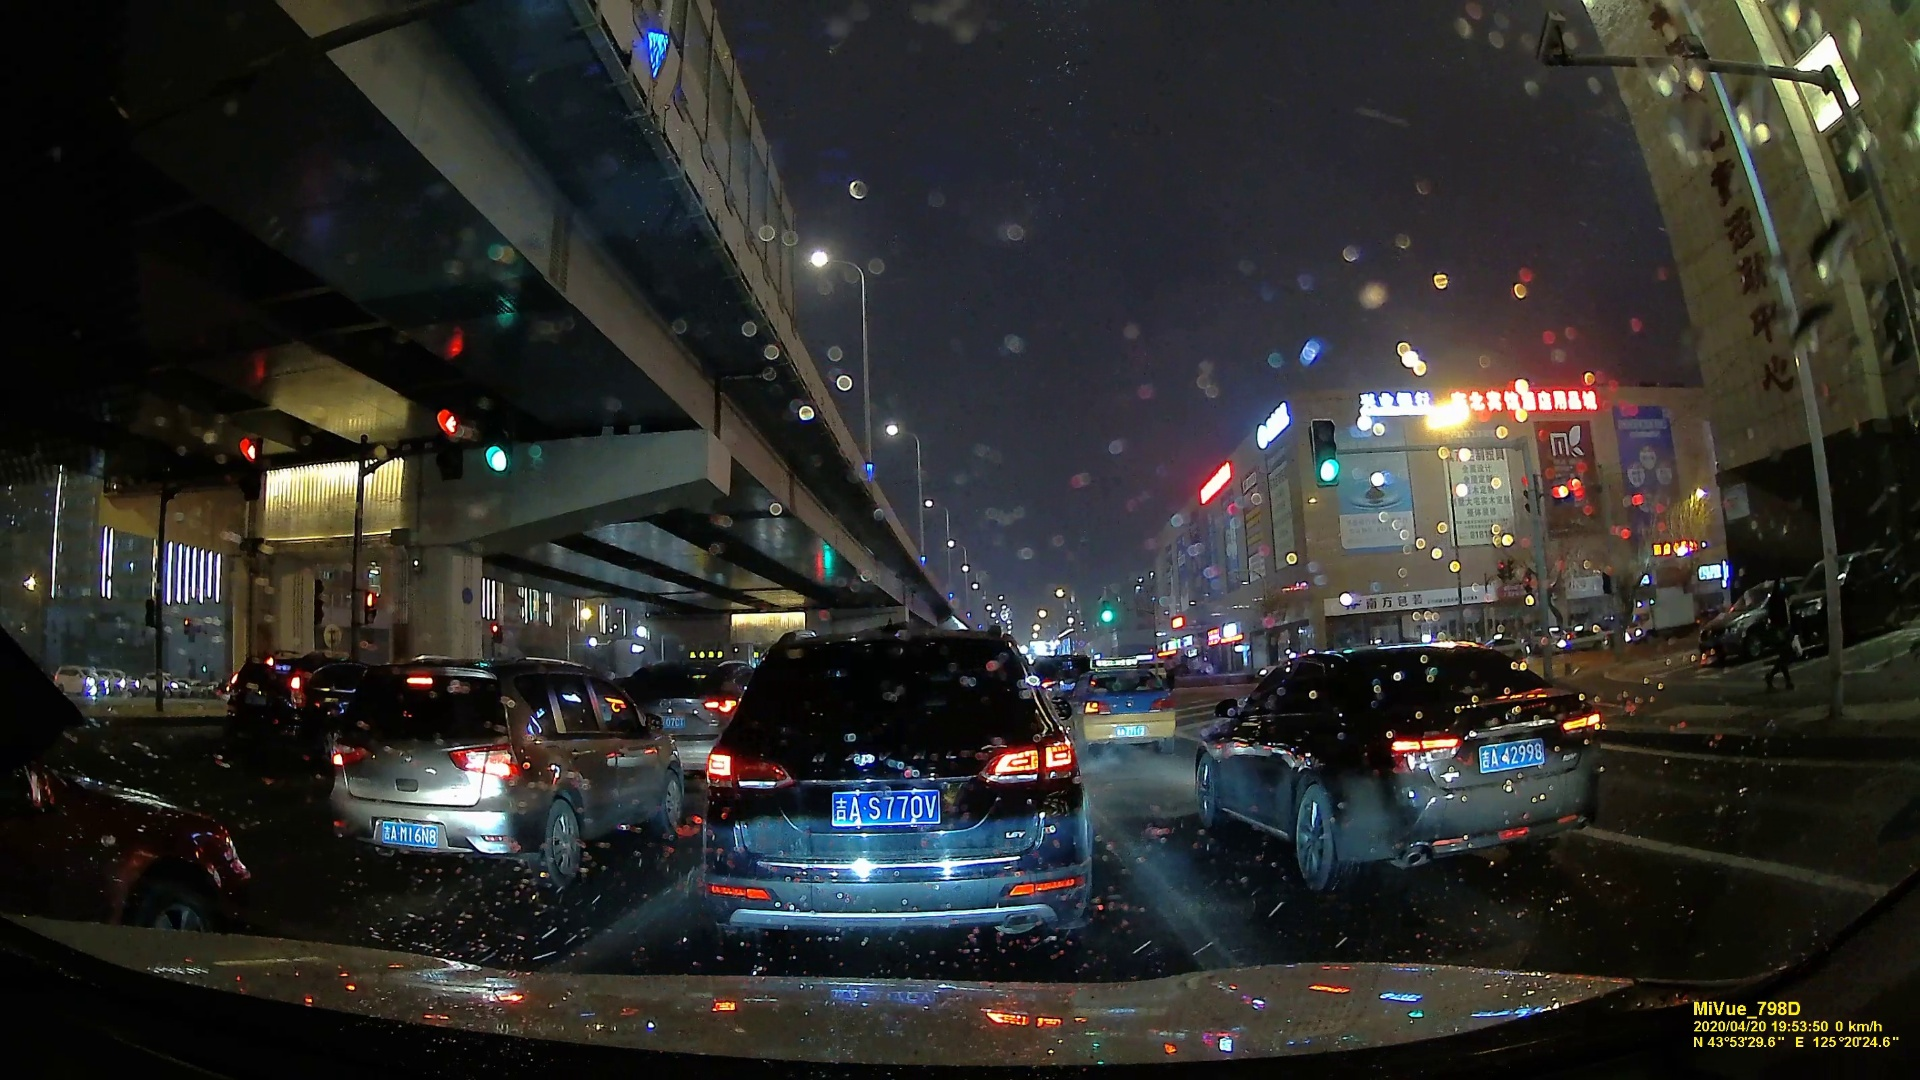minibus: (481, 402, 512, 472), (360, 589, 378, 626)
traffic_sign: (1312, 417, 1341, 487), (438, 405, 467, 475), (233, 433, 262, 500), (1098, 589, 1117, 622)
vehicle: (702, 624, 1083, 945), (1199, 630, 1615, 899), (318, 651, 684, 886), (1076, 665, 1176, 757)
